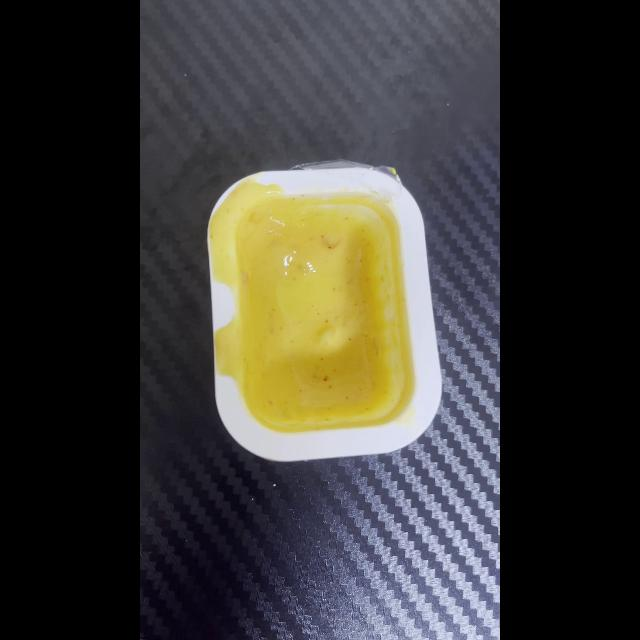dirty: (207, 165, 438, 458)
